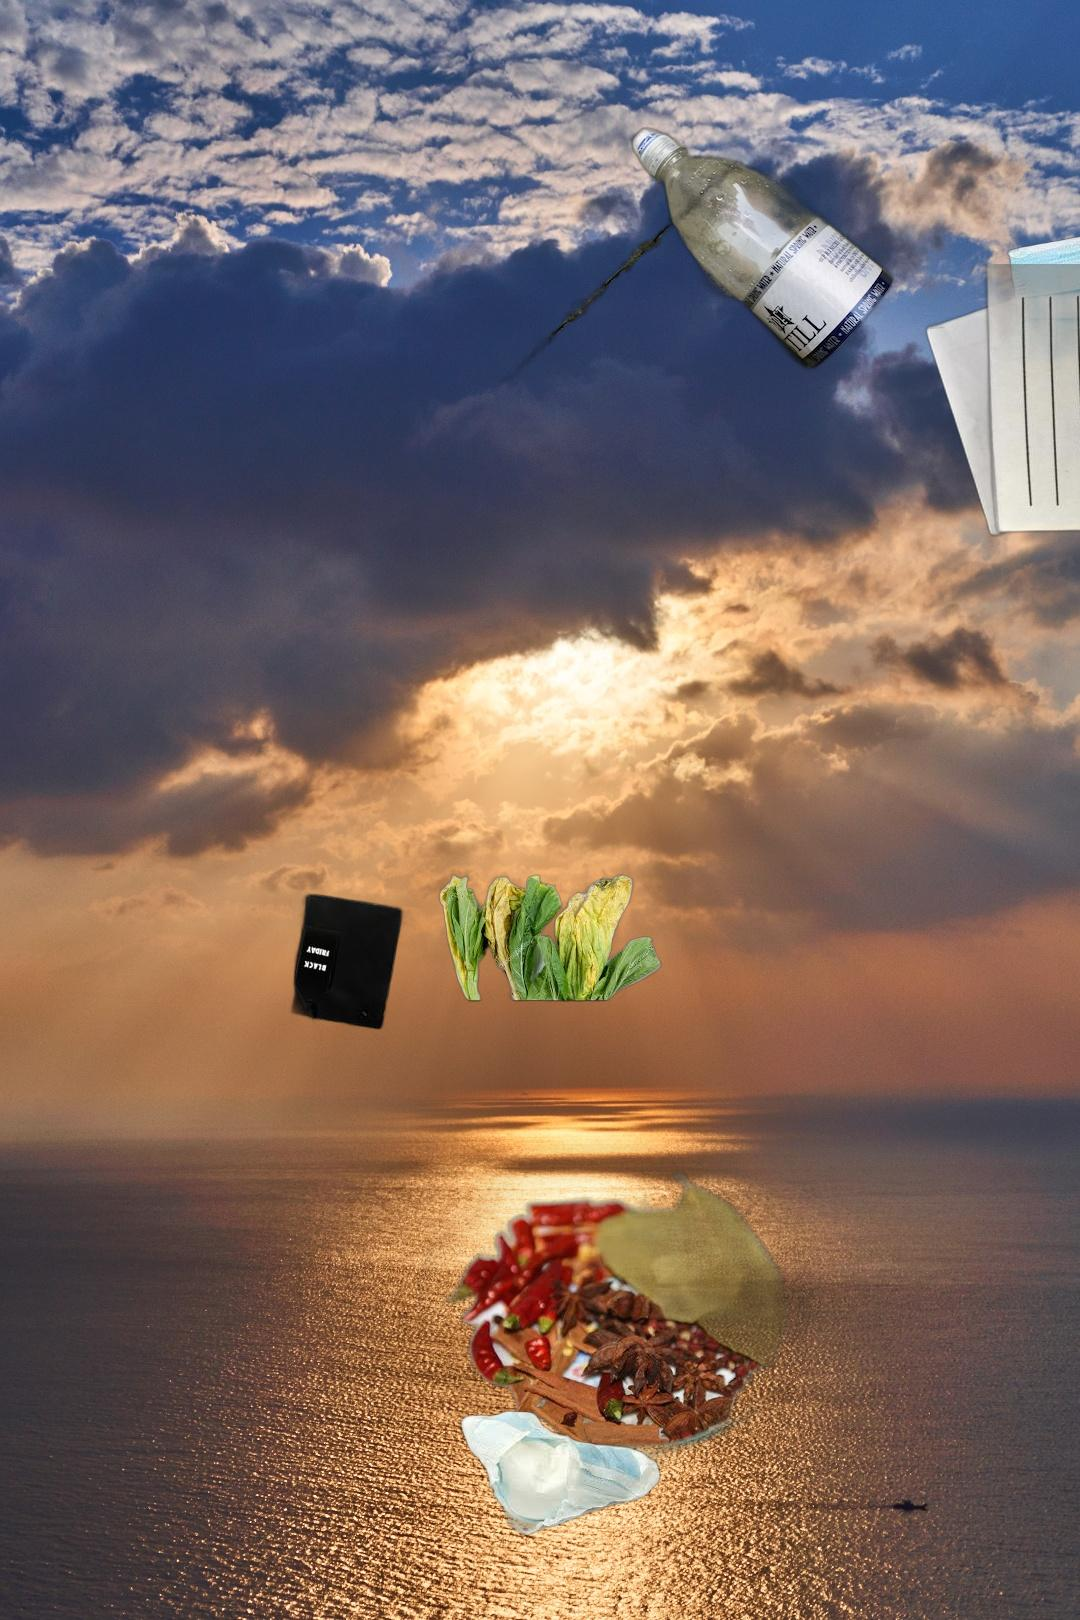biological: (397, 1144, 827, 1477), (435, 871, 664, 1004)
paper: (921, 256, 1080, 538), (980, 264, 1080, 536)
paper-bag: (170, 891, 406, 1137)
plastic-bottles: (425, 121, 897, 554)
trash: (456, 1408, 663, 1538), (1005, 201, 1080, 404)
